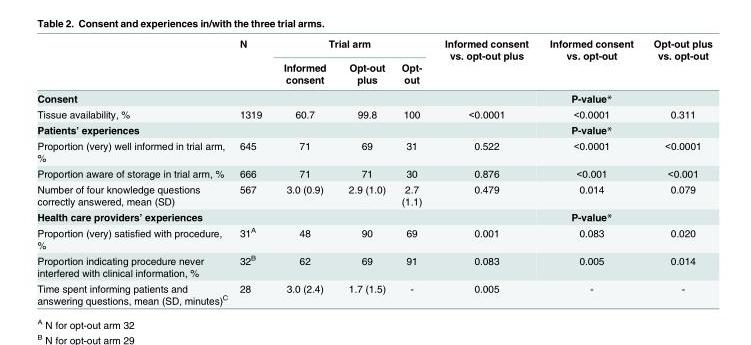table: (36, 37, 711, 305)
table column: (36, 37, 233, 305), (432, 37, 538, 305), (538, 37, 642, 305), (642, 37, 711, 305), (272, 37, 336, 305), (336, 37, 392, 305), (392, 37, 432, 305), (233, 37, 272, 305)
table column header: (36, 37, 711, 88)
table row: (36, 251, 711, 280), (36, 137, 711, 165), (36, 61, 711, 88), (36, 181, 711, 208), (36, 224, 711, 251), (36, 280, 711, 305), (36, 37, 711, 61), (36, 88, 711, 106), (36, 121, 711, 137), (36, 165, 711, 181), (36, 208, 711, 224), (36, 106, 711, 121)
table spanning cell: (36, 88, 432, 106), (36, 208, 432, 224), (432, 37, 538, 88), (538, 37, 642, 88), (272, 37, 432, 61), (642, 37, 711, 88), (233, 37, 272, 88)
